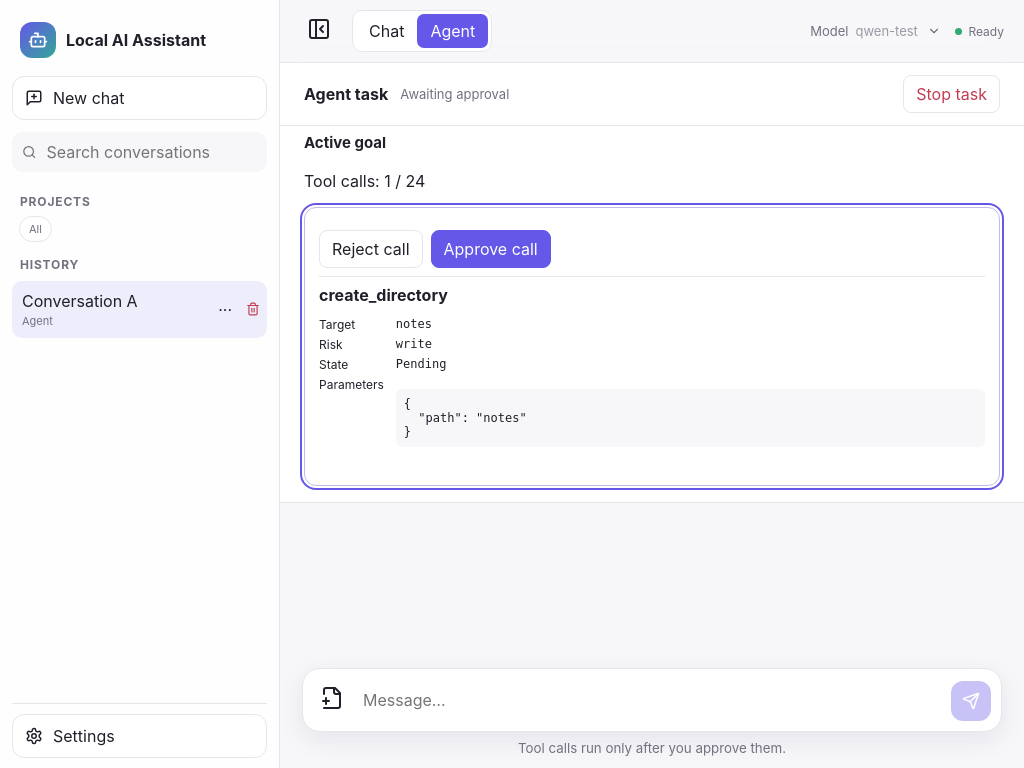
Test: modern desktop › awaits cancellation before persisting Chat mode and removes the pending approval
(page scrolled)
Expected: the button "Approve call" is shown, [430,230,551,268]
Click the button "Chat" at (387, 31), box [356,14,417,48]
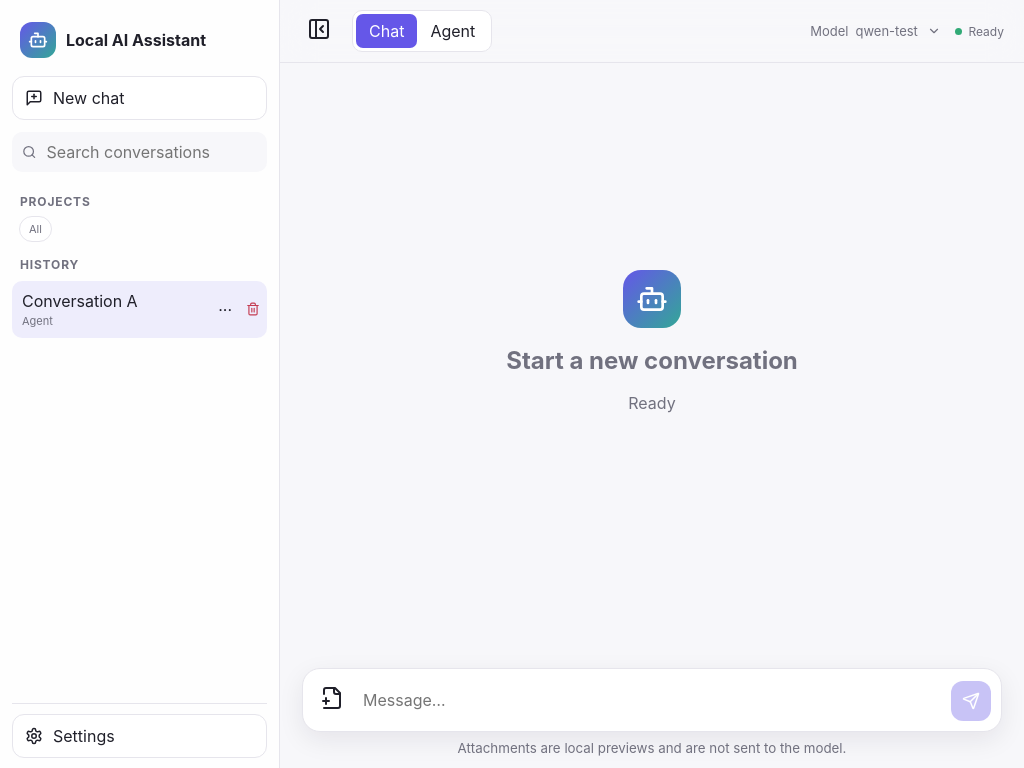
Now the button "Approve call" is gone
